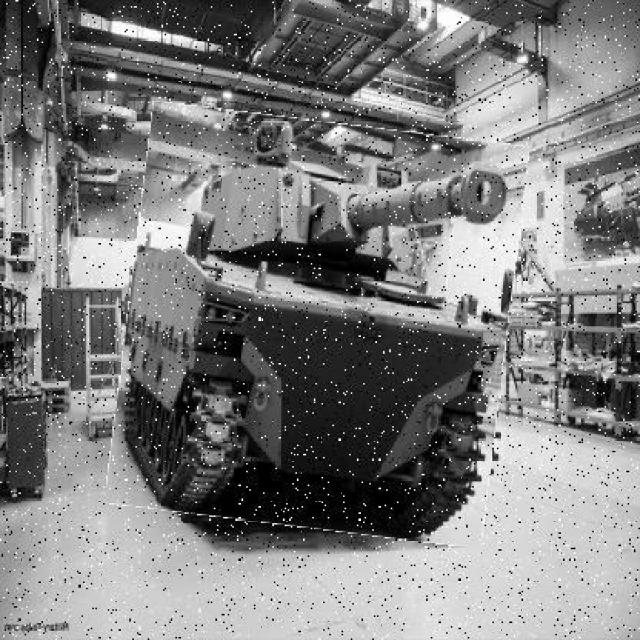Tank: (118, 112, 518, 538)
